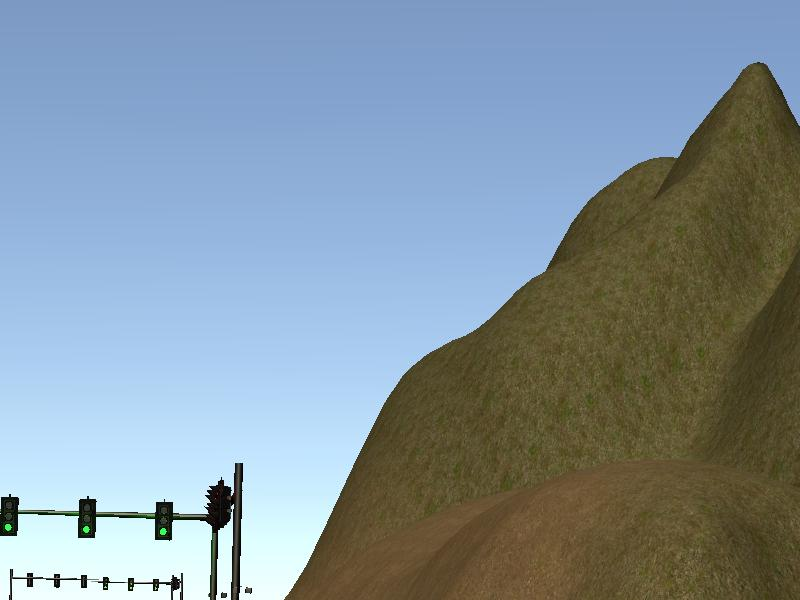Green: (1, 497, 19, 537), (154, 502, 172, 539), (79, 499, 96, 537)
